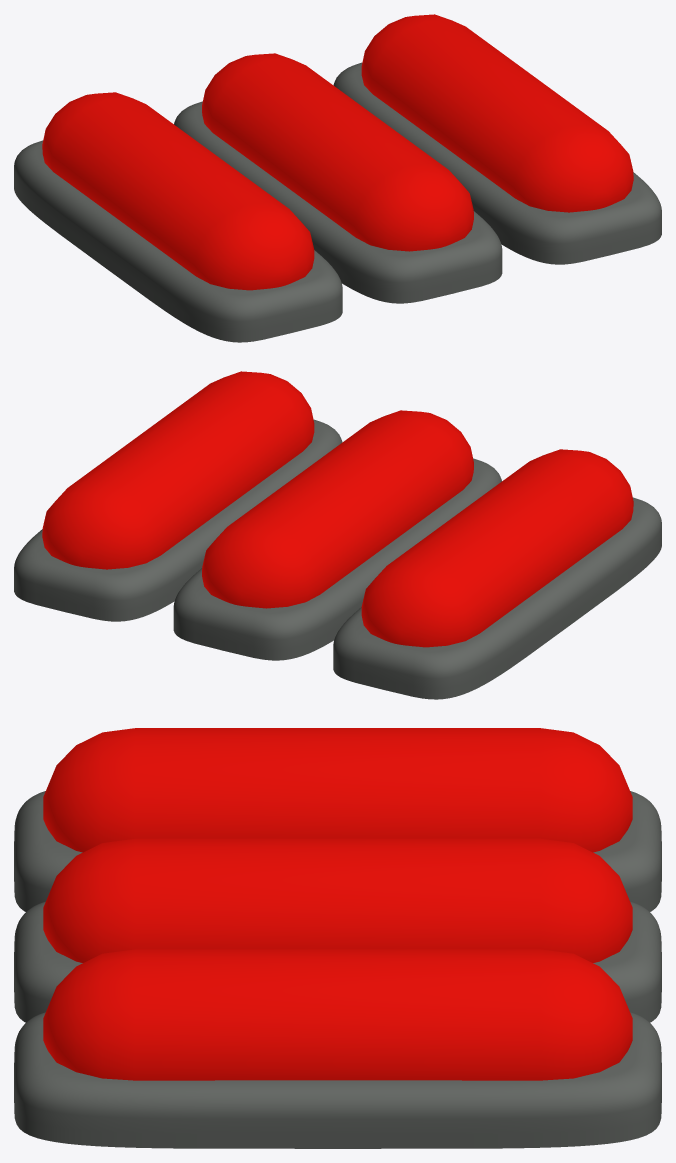
The model's file is panel_pills.glb.
The picture shows the model from 3 angles, top to bottom: view 1: azimuth 30°, elevation 25°; view 2: azimuth 150°, elevation 25°; view 3: azimuth 270°, elevation 25°; orthographic projection. The views are drawn at different scales.
Parts seen in each view (by area): view 1: pill-8.0, pill8.0, pill0.0, cradle-8.0, cradle8.0, cradle0.0; view 2: pill-8.0, pill8.0, pill0.0, cradle-8.0, cradle8.0, cradle0.0; view 3: pill8.0, pill0.0, pill-8.0, cradle8.0, cradle0.0, cradle-8.0.
Boxes of the visible parts, x1,y1,x2,y2 form: pill-8.0: [42, 92, 314, 290]; pill8.0: [361, 14, 633, 212]; pill0.0: [202, 53, 473, 251]; cradle-8.0: [14, 140, 342, 342]; cradle8.0: [333, 62, 661, 264]; cradle0.0: [174, 101, 502, 303]; pill-8.0: [361, 449, 633, 647]; pill8.0: [42, 371, 314, 569]; pill0.0: [202, 410, 473, 608]; cradle-8.0: [333, 497, 661, 699]; cradle8.0: [14, 419, 342, 621]; cradle0.0: [173, 458, 501, 660]; pill8.0: [43, 949, 632, 1080]; pill0.0: [43, 838, 632, 962]; pill-8.0: [43, 728, 632, 852]; cradle8.0: [14, 1012, 661, 1148]; cradle0.0: [14, 901, 661, 1022]; cradle-8.0: [14, 791, 661, 911].
Size of the model in its own units: 23.4 by 4.76 by 19.8.
